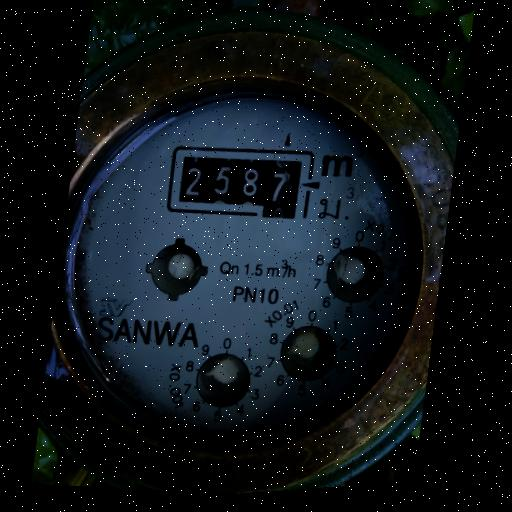2: (180, 155, 209, 204)
5: (209, 156, 238, 205)
7: (265, 158, 298, 220)
8: (236, 157, 266, 207)
border_water_meter_number: (165, 133, 323, 233)
